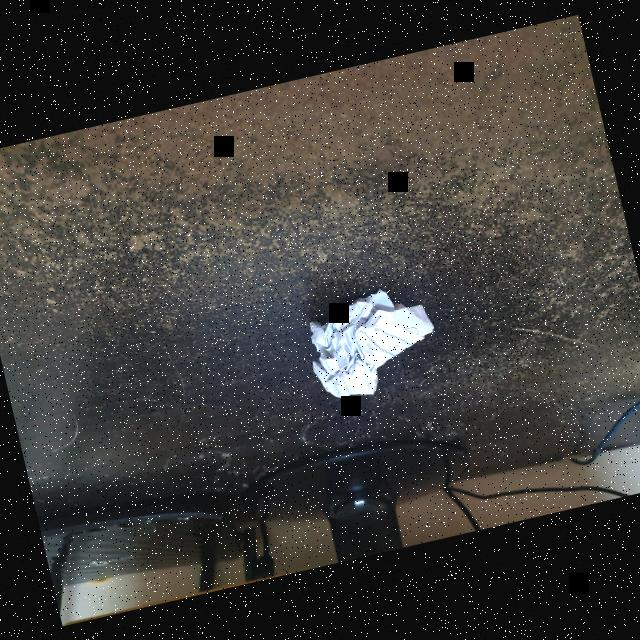scrap_paper: (296, 274, 450, 408)
